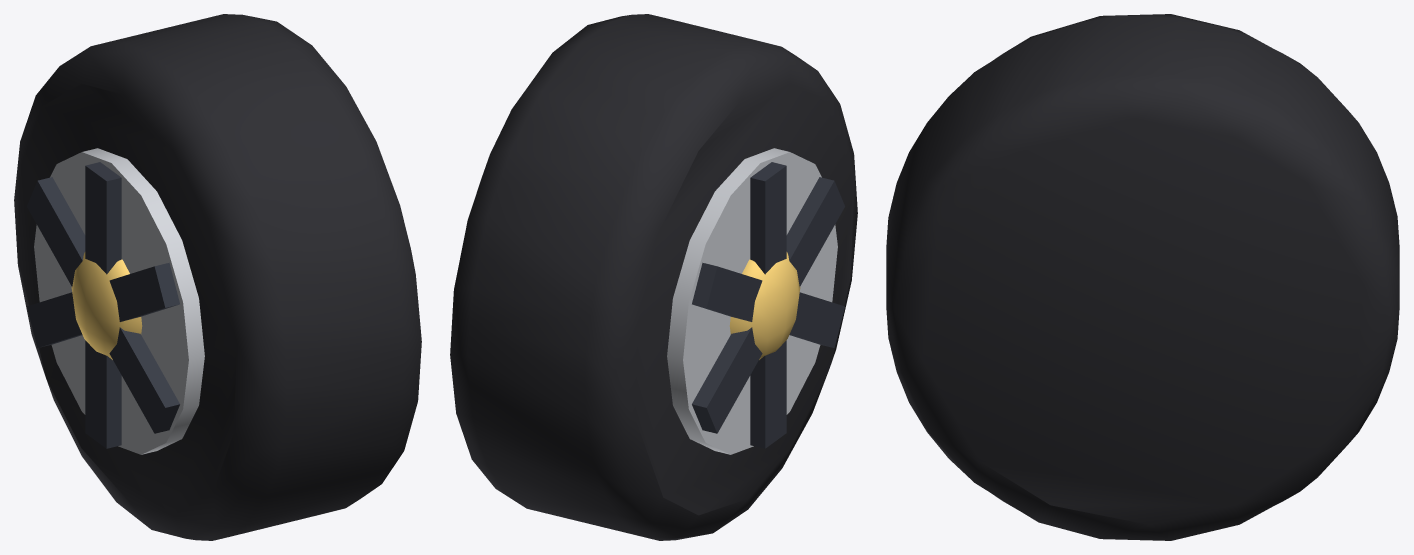
The model's file is kartwheel.glb.
3 renders of one model, left to right at view 1: azimuth 30°, elevation 25°; view 2: azimuth 150°, elevation 25°; view 3: azimuth 270°, elevation 25°, orthographic.
Visible parts, largest first — view 1: K_Tire, K_RimDisc, K_Spoke.002, K_Spoke, K_Spoke.001, K_Hub; view 2: K_Tire, K_RimDisc, K_Spoke.001, K_Spoke, K_Spoke.002, K_Hub; view 3: K_Tire.
Part boxes in pixels (box(x1,y1,x2,y2)): K_Tire: box(14, 14, 421, 540); K_RimDisc: box(34, 148, 204, 454); K_Spoke.002: box(27, 177, 179, 433); K_Spoke: box(85, 162, 121, 448); K_Spoke.001: box(27, 262, 179, 347); K_Hub: box(71, 252, 142, 359); K_Tire: box(450, 14, 857, 540); K_RimDisc: box(667, 148, 837, 454); K_Spoke.001: box(692, 177, 844, 433); K_Spoke: box(750, 162, 786, 448); K_Spoke.002: box(692, 262, 844, 347); K_Hub: box(729, 252, 800, 359); K_Tire: box(886, 14, 1399, 540).
Bounding box in the file's own units: 0.4201 × 0.8289 × 0.83.
